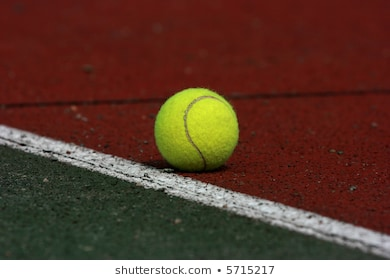tennis_ball: (153, 85, 241, 170)
